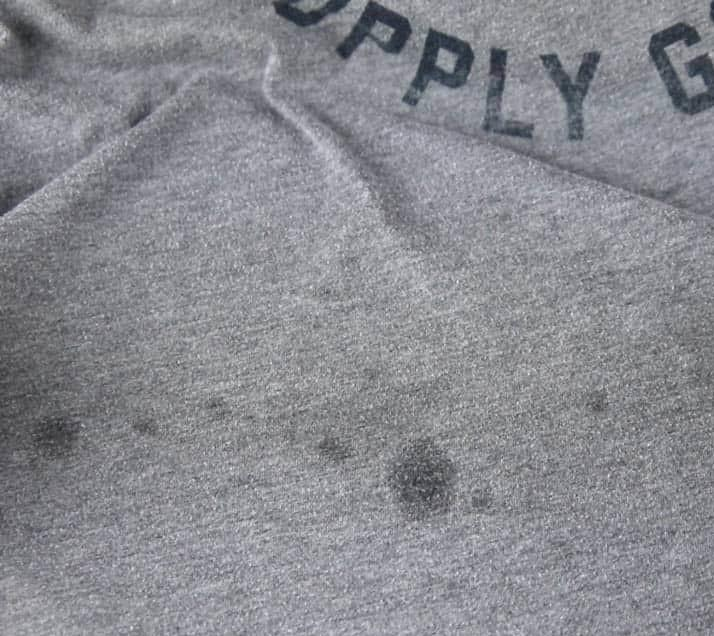gun: (377, 427, 468, 528), (32, 398, 85, 468), (315, 417, 356, 476), (580, 381, 618, 417)
